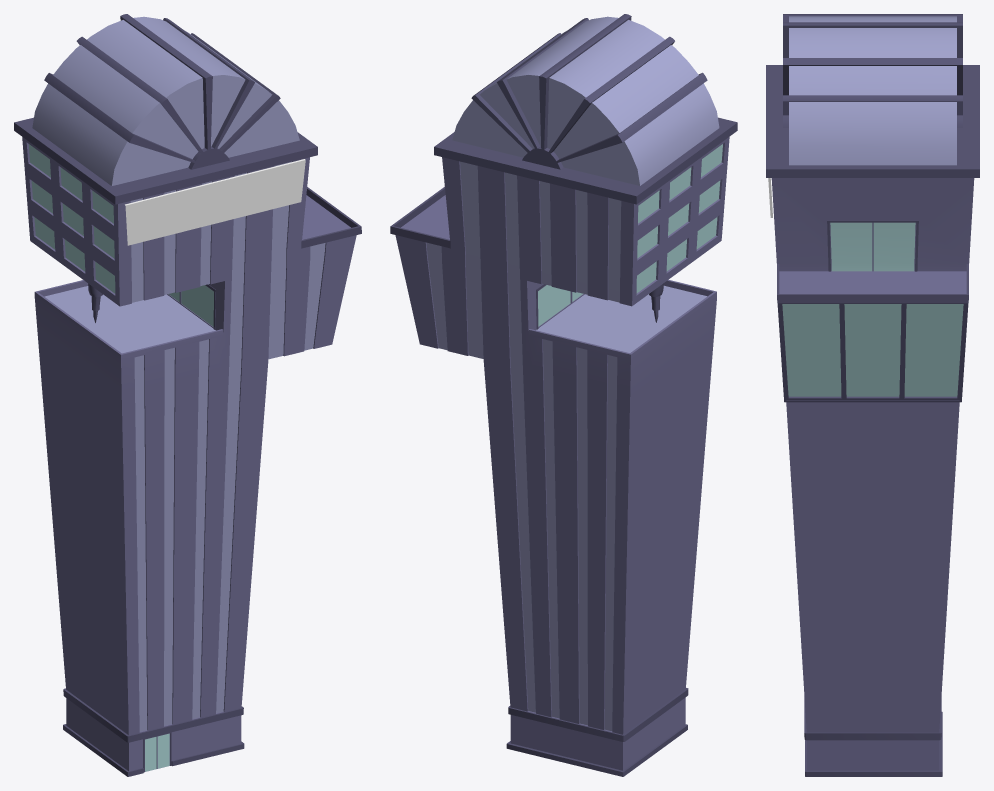
Rendered from monolith.glb.
3 renders of one model, left to right at view 1: azimuth 30°, elevation 25°; view 2: azimuth 150°, elevation 25°; view 3: azimuth 270°, elevation 25°, orthographic. The views are drawn at different scales.
Visible parts, largest first — view 1: Text; view 2: Text; view 3: Text.
Boxes of the visible parts, <box> form: Text: <box>14,14,361,776</box>; Text: <box>390,14,737,776</box>; Text: <box>766,14,979,776</box>.
Size of the model in its own units: 23.27 by 60.94 by 16.17.
